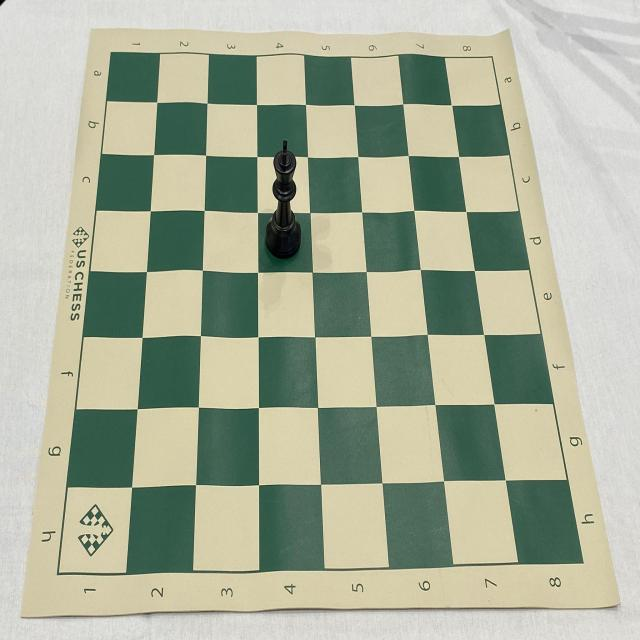black-king: (263, 140, 303, 261)
